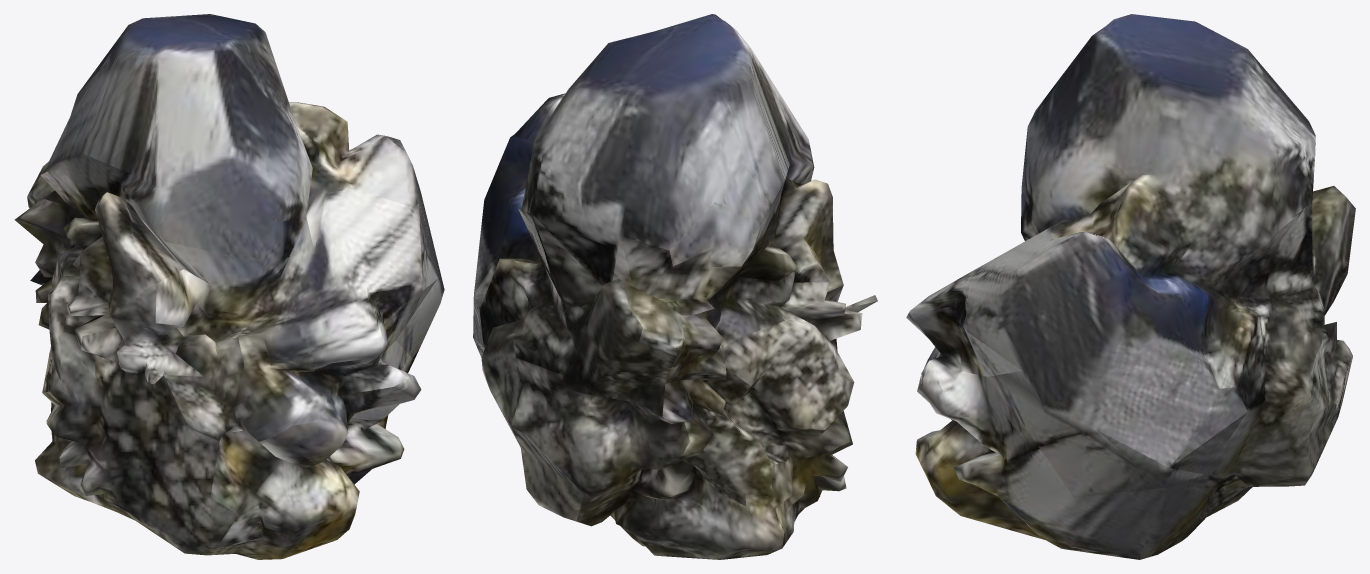
Rendered from crystal-dig_engine_03.glb.
3 renders of one model, left to right at view 1: azimuth 30°, elevation 25°; view 2: azimuth 150°, elevation 25°; view 3: azimuth 270°, elevation 25°, orthographic. The views are drawn at different scales.
Parts seen in each view (by area): view 1: mesh_node.001; view 2: mesh_node.001; view 3: mesh_node.001.
Part boxes in pixels (<box>): mesh_node.001: <box>14,14,444,559</box>; mesh_node.001: <box>473,14,877,559</box>; mesh_node.001: <box>906,14,1355,559</box>.
Size of the model in its own units: 0.2988 by 0.3955 by 0.3232.
Materials: 1 (1 with a texture image).
